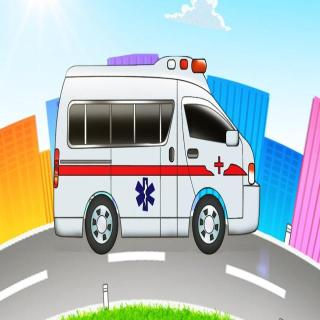Ambulance: (38, 49, 266, 258)
